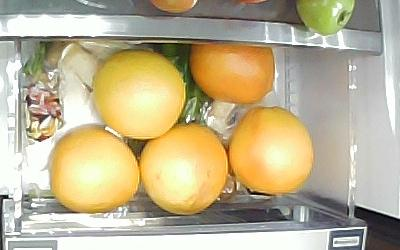grapefruit: (92, 47, 186, 139), (138, 122, 227, 214), (48, 126, 140, 212), (227, 105, 315, 194), (188, 41, 275, 103)
